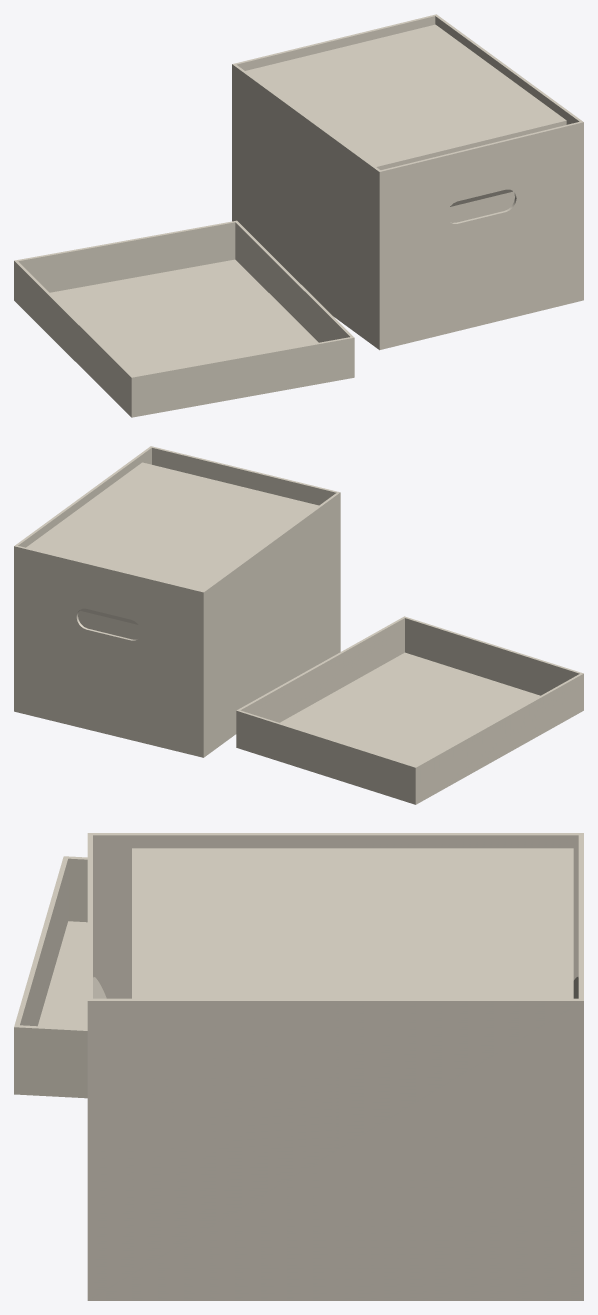
The model's file is Kit_RecordsCarton_LidOff.fbx.
The picture shows the model from 3 angles, top to bottom: view 1: azimuth 30°, elevation 25°; view 2: azimuth 150°, elevation 25°; view 3: azimuth 270°, elevation 25°; orthographic projection. The views are drawn at different scales.
Parts seen in each view (by area): view 1: Kit_RecordsCarton_LidOff_LOD0; view 2: Kit_RecordsCarton_LidOff_LOD0; view 3: Kit_RecordsCarton_LidOff_LOD0.
Part boxes in pixels (left/top/right/bottom): Kit_RecordsCarton_LidOff_LOD0: left=14, top=14, right=583, bottom=417; Kit_RecordsCarton_LidOff_LOD0: left=14, top=446, right=583, bottom=804; Kit_RecordsCarton_LidOff_LOD0: left=14, top=833, right=583, bottom=1300.
Size of what is drawn, in the model's own units: 0.6855 by 0.254 by 0.4376.
